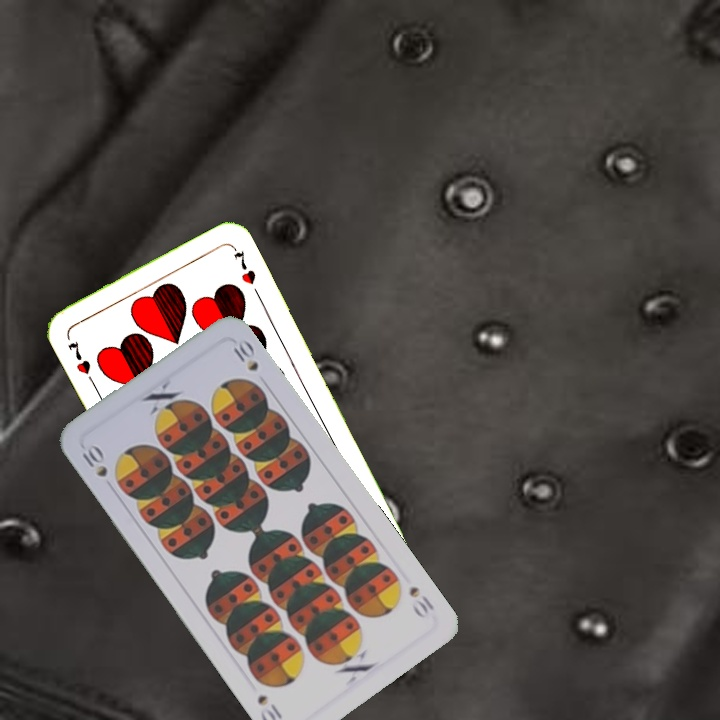H7: (63, 336, 94, 378)
S10: (78, 440, 110, 480), (405, 582, 437, 622)
